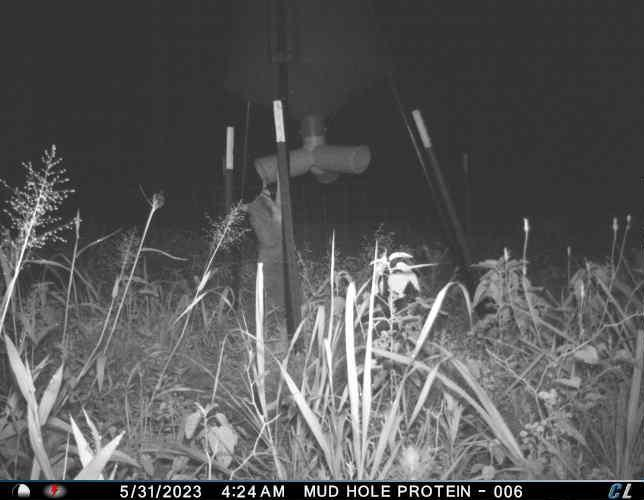Raccoon: (242, 177, 283, 313)
